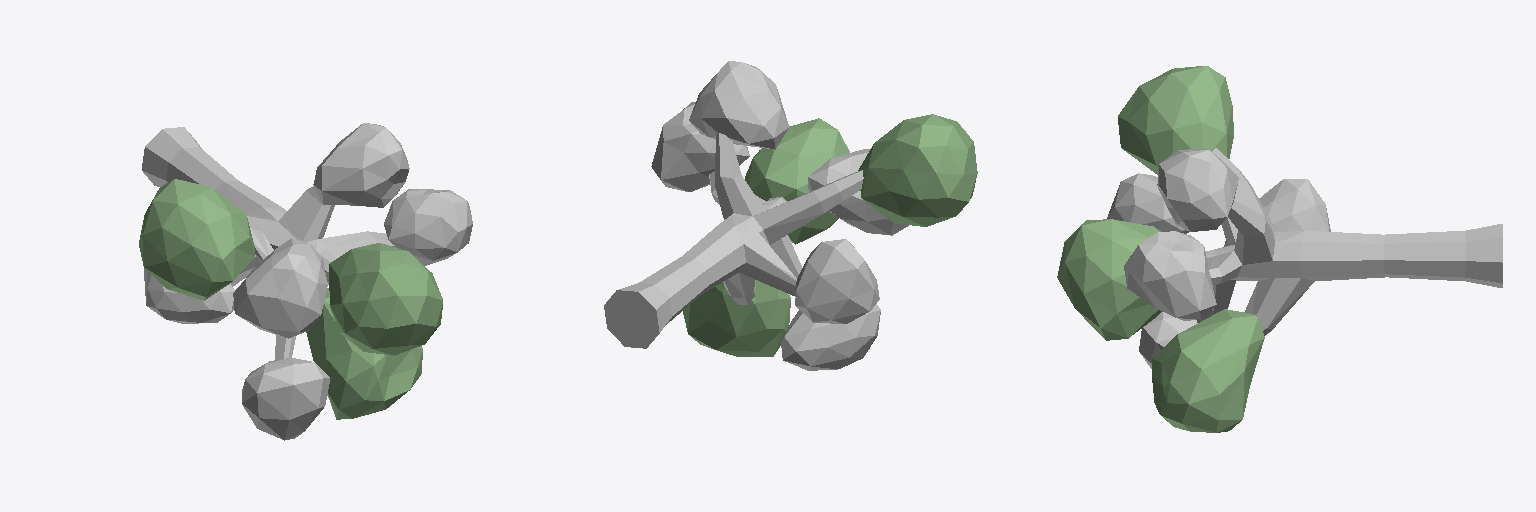
Rendered from Tree.obj.
3 renders of one model, left to right at view 1: azimuth 30°, elevation 25°; view 2: azimuth 150°, elevation 25°; view 3: azimuth 270°, elevation 25°, orthographic.
Visible parts, largest first — view 1: Arbre_Normal_Cylinder.002; view 2: Arbre_Normal_Cylinder.002; view 3: Arbre_Normal_Cylinder.002.
Boxes of the visible parts, x1=… form: Arbre_Normal_Cylinder.002: x1=139, y1=123, x2=472, y2=440; Arbre_Normal_Cylinder.002: x1=604, y1=61, x2=977, y2=370; Arbre_Normal_Cylinder.002: x1=1057, y1=66, x2=1502, y2=432.
Size of the model in its own units: 3.18 by 2.75 by 3.92.